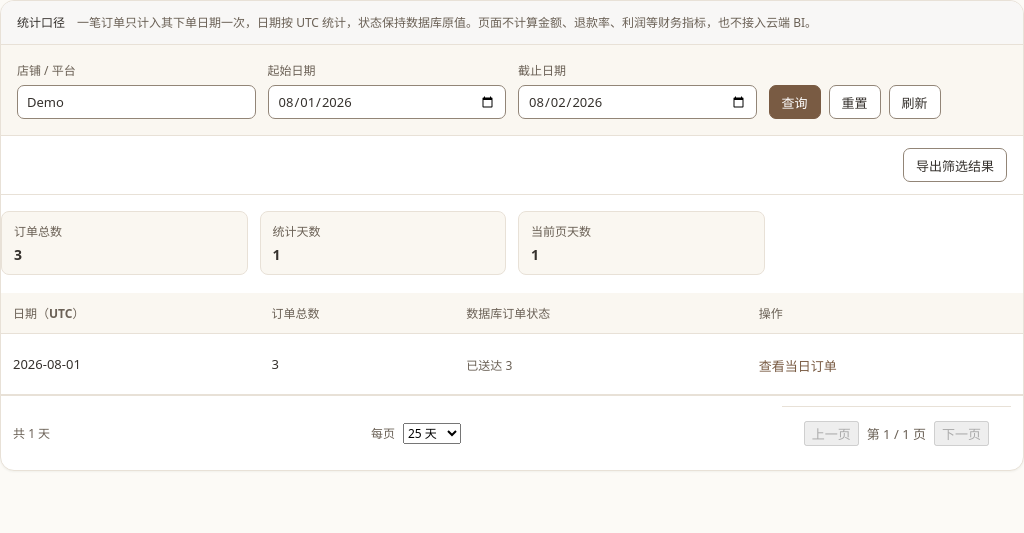
Test: analytics sales report shells › downloads the current order status filter and announces success
The image size is (1024, 533).
What coordinates should you click on to do the following:
click the button "导出筛选结果"
I would click on:
 (955, 165)
Its box is [903,148,1007,182].
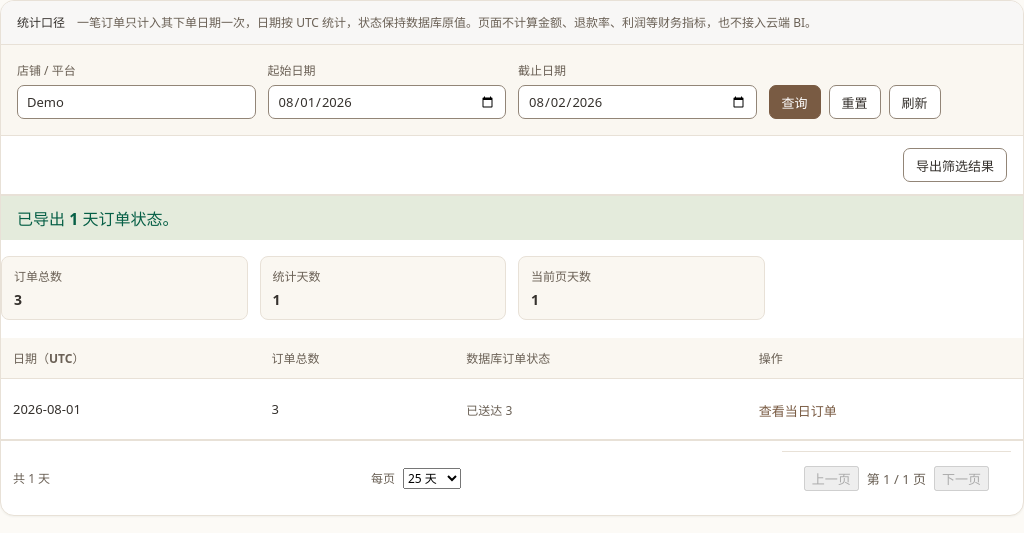
Check: the text "已导出 1 天订单状态。" is shown, box [1,195,1023,240]
